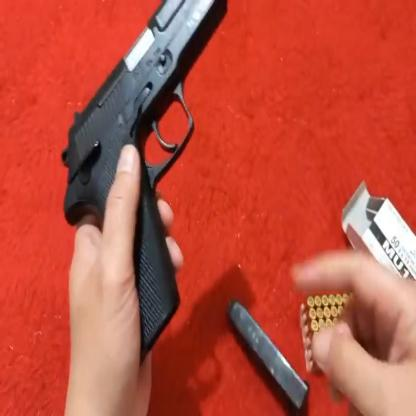handgun: (57, 0, 231, 364)
